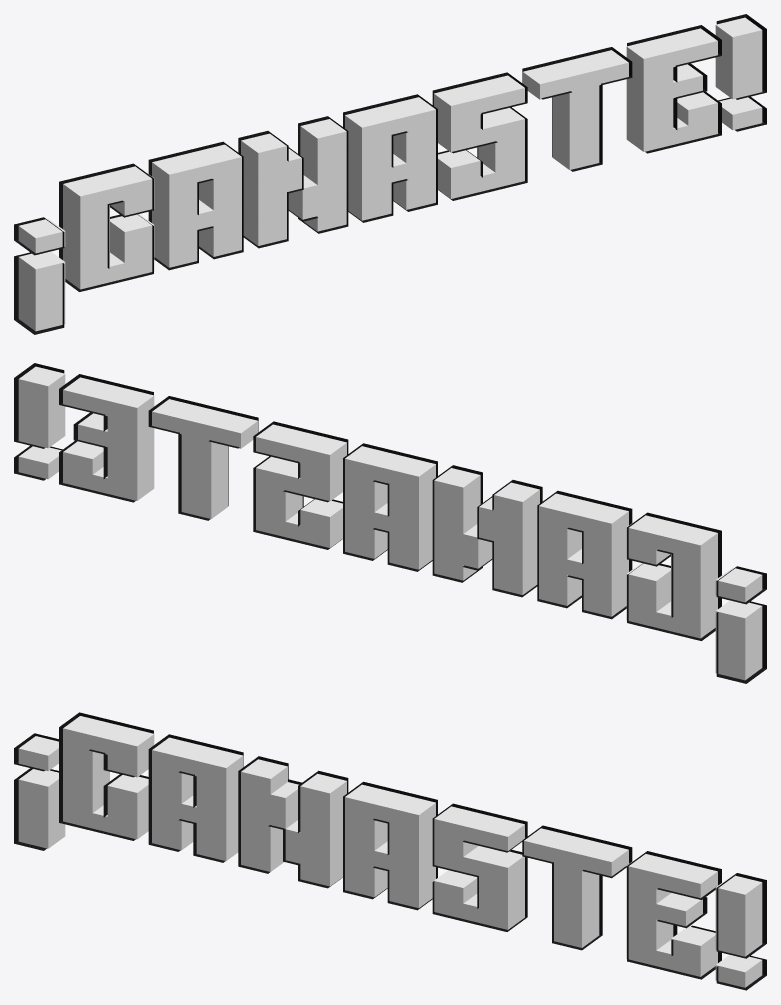
File: Ganaste_v3.fbx
3 renders of one model, top to bottom at view 1: azimuth 30°, elevation 25°; view 2: azimuth 150°, elevation 25°; view 3: azimuth 330°, elevation 25°, orthographic.
Visible parts, largest first — view 1: GANASTE_V3, GANASTE_V3_outline; view 2: GANASTE_V3, GANASTE_V3_outline; view 3: GANASTE_V3, GANASTE_V3_outline.
Boxes of the visible parts, left/top/right/bottom form: GANASTE_V3: left=18, top=17, right=762, bottom=331; GANASTE_V3_outline: left=14, top=14, right=766, bottom=334; GANASTE_V3: left=18, top=366, right=762, bottom=680; GANASTE_V3_outline: left=14, top=363, right=766, bottom=683; GANASTE_V3: left=18, top=716, right=762, bottom=987; GANASTE_V3_outline: left=14, top=712, right=766, bottom=990.
Bounding box in the file's own units: 309 × 51.25 × 15.
2 materials, 2 textured.
